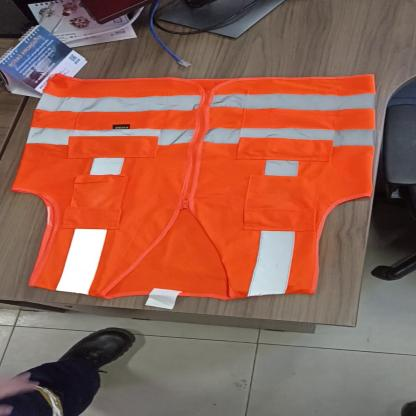colete: (9, 71, 381, 299)
